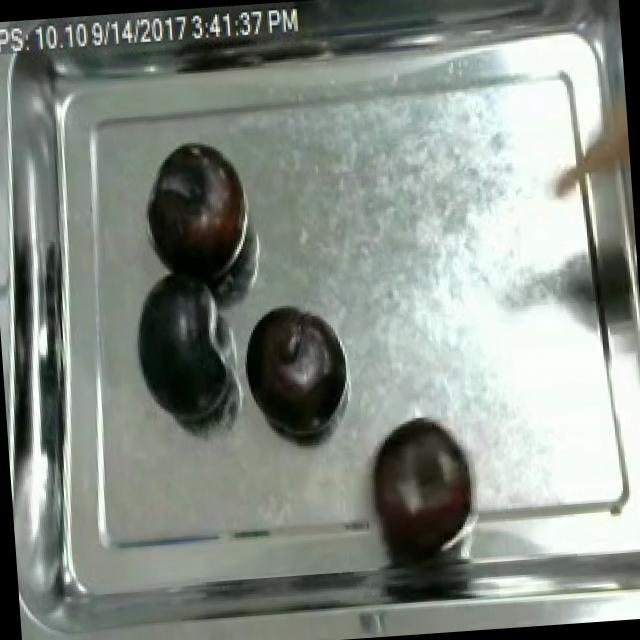Fruit: (125, 256, 238, 428), (137, 136, 255, 288), (236, 294, 346, 442), (363, 414, 480, 553)
